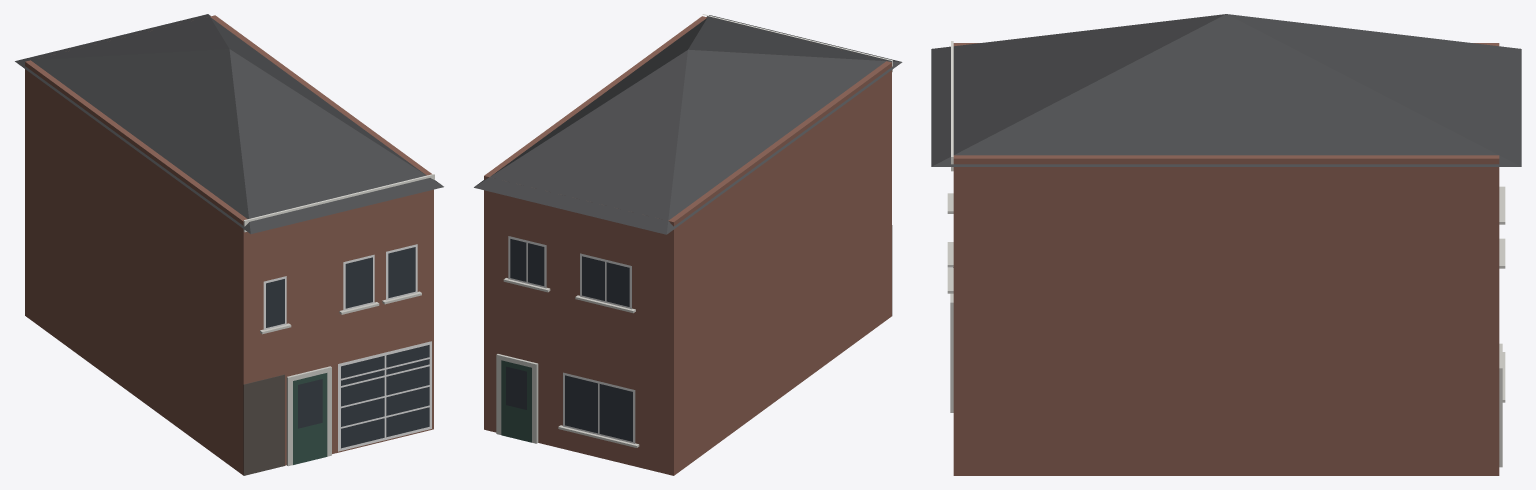
The model's file is nw-ao-hebriden__red__2__hip__long__solid.glb.
3 views of the same model, side by side, from view 1: azimuth 30°, elevation 25°; view 2: azimuth 150°, elevation 25°; view 3: azimuth 270°, elevation 25° (orthographic). The views are drawn at different scales.
Parts seen in each view (by area): view 1: nw-ao-hebriden__red__2__hip__long__solid; view 2: nw-ao-hebriden__red__2__hip__long__solid; view 3: nw-ao-hebriden__red__2__hip__long__solid.
Boxes of the visible parts, x1,y1,x2,y2 form: nw-ao-hebriden__red__2__hip__long__solid: (15,14,443,475); nw-ao-hebriden__red__2__hip__long__solid: (474,14,902,475); nw-ao-hebriden__red__2__hip__long__solid: (931,14,1521,475).
Size of the model in its own units: 5.66 by 9.04 by 11.97.
